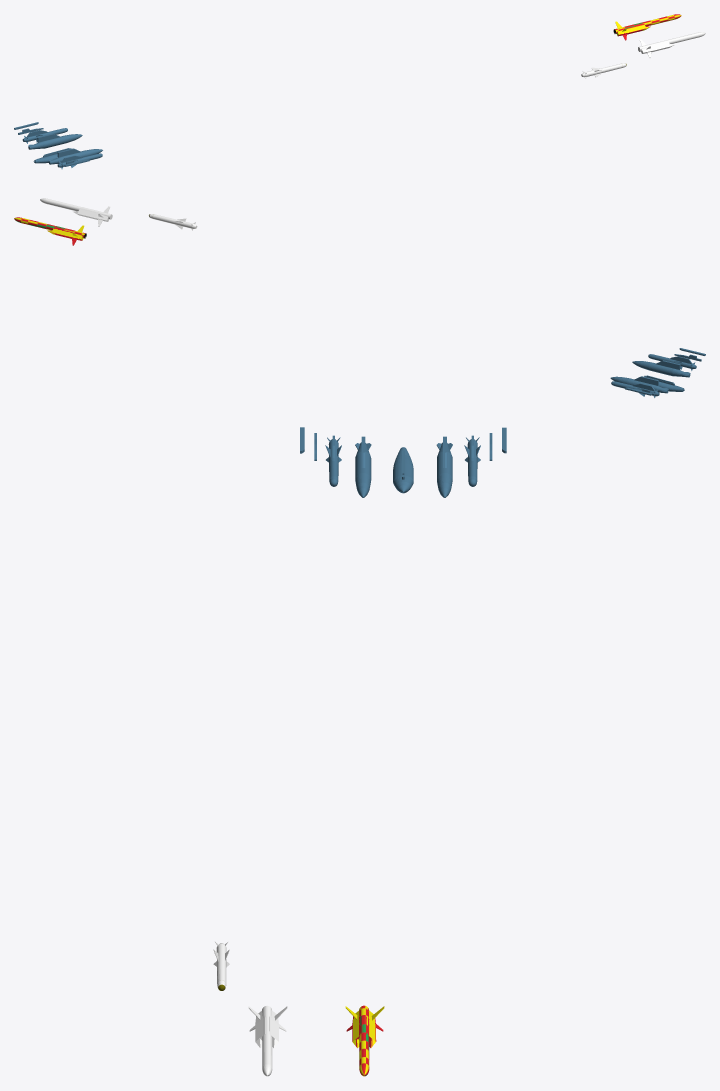
File: asm2df2a12.glb
3 views of the same model, one above another, from view 1: azimuth 30°, elevation 25°; view 2: azimuth 150°, elevation 25°; view 3: azimuth 270°, elevation 25° (orthographic). The views are drawn at different scales.
Visible parts, largest first — view 1: 立方体.047, 球.005, 円柱.001, 球.008; view 2: 立方体.047, 球.005, 円柱; view 3: 球.005, 立方体.047.
Boxes of the visible parts, left/top/right/bottom form: 立方体.047: left=613, top=14, right=681, bottom=40; 球.005: left=638, top=32, right=705, bottom=57; 円柱.001: left=28, top=134, right=82, bottom=149; 球.008: left=581, top=63, right=626, bottom=78; 立方体.047: left=14, top=217, right=86, bottom=245; 球.005: left=40, top=198, right=112, bottom=226; 円柱: left=632, top=361, right=690, bottom=377; 球.005: left=248, top=1005, right=287, bottom=1076; 立方体.047: left=345, top=1005, right=384, bottom=1076.
Bounding box in the file's own units: 76.69 × 2.62 × 15.27.
29 materials, 4 textured.
